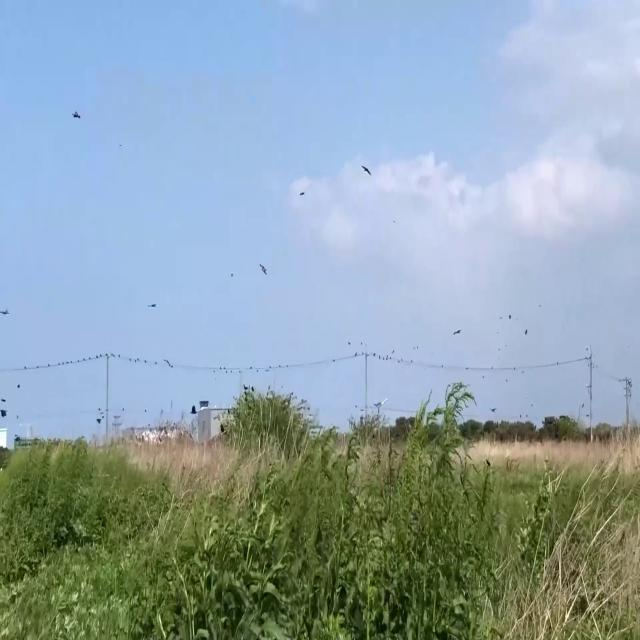bird: (361, 155, 372, 185), (259, 255, 267, 282), (0, 299, 9, 323), (72, 101, 80, 127), (148, 293, 157, 315), (299, 182, 306, 203)
